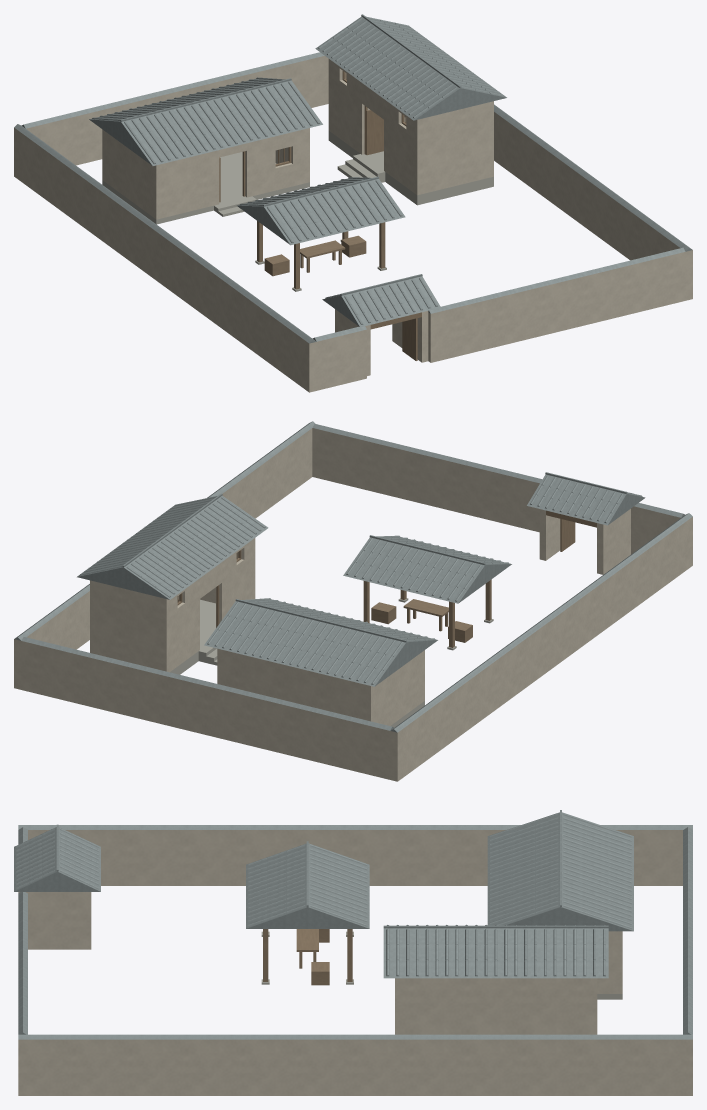
Rendered from north.glb.
The picture shows the model from 3 angles, top to bottom: view 1: azimuth 30°, elevation 25°; view 2: azimuth 150°, elevation 25°; view 3: azimuth 270°, elevation 25°; orthographic projection. The views are drawn at different scales.
Parts seen in each view (by area): view 1: architecture_C_whitebox_earth_wall.001, architecture_C_roof_rhythm_not_glaze_copy.001, architecture_C_floor_plinth.001, architecture_C_plain_timber.001; view 2: architecture_C_whitebox_earth_wall.001, architecture_C_roof_rhythm_not_glaze_copy.001, architecture_C_plain_timber.001, architecture_C_floor_plinth.001; view 3: architecture_C_whitebox_earth_wall.001, architecture_C_roof_rhythm_not_glaze_copy.001, architecture_C_plain_timber.001.
Boxes of the visible parts, bbox=[...] form: architecture_C_whitebox_earth_wall.001: bbox=[14, 56, 692, 392]; architecture_C_roof_rhythm_not_glaze_copy.001: bbox=[14, 14, 692, 343]; architecture_C_floor_plinth.001: bbox=[102, 117, 493, 291]; architecture_C_plain_timber.001: bbox=[219, 71, 421, 360]; architecture_C_whitebox_earth_wall.001: bbox=[14, 428, 692, 781]; architecture_C_roof_rhythm_not_glaze_copy.001: bbox=[14, 421, 692, 732]; architecture_C_plain_timber.001: bbox=[177, 510, 596, 647]; architecture_C_floor_plinth.001: bbox=[170, 597, 493, 727]; architecture_C_whitebox_earth_wall.001: bbox=[18, 830, 692, 1095]; architecture_C_roof_rhythm_not_glaze_copy.001: bbox=[14, 810, 692, 1039]; architecture_C_plain_timber.001: bbox=[263, 929, 352, 985].
Size of the model in its own units: 18 by 5.07 by 24.15.
4 materials, 3 textured.
